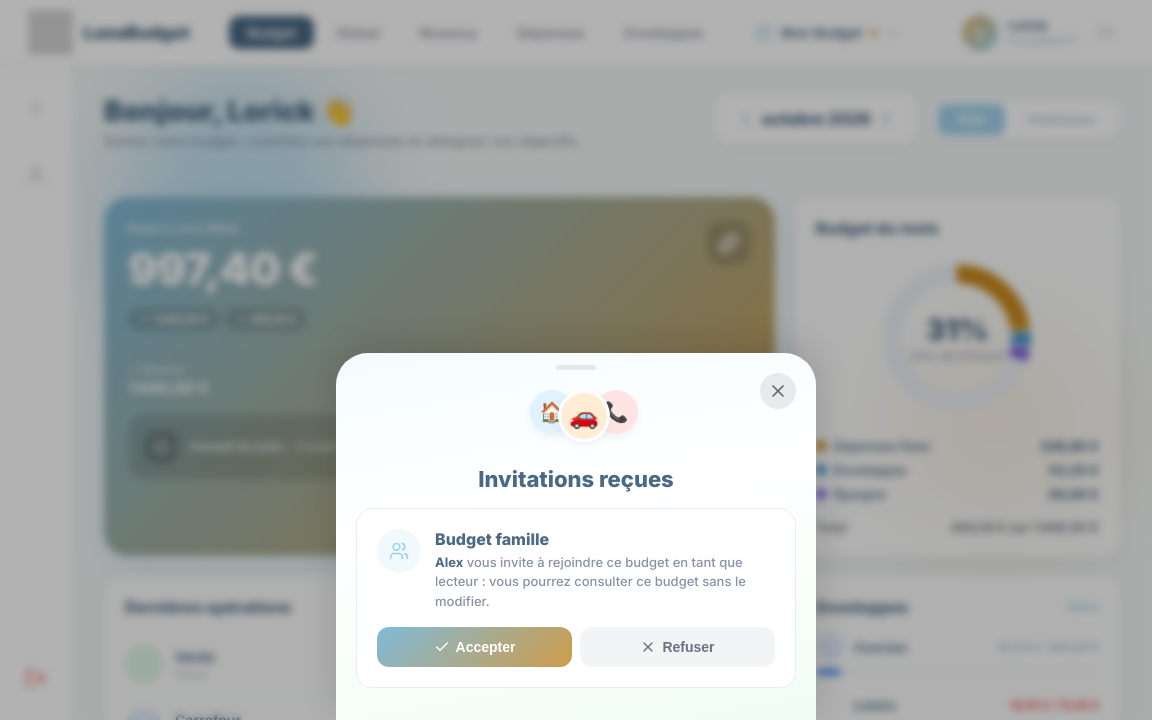
invitations reçues › accepter rejoint le budget
Click the button "Accepter": (474, 647) [377,627,572,667]
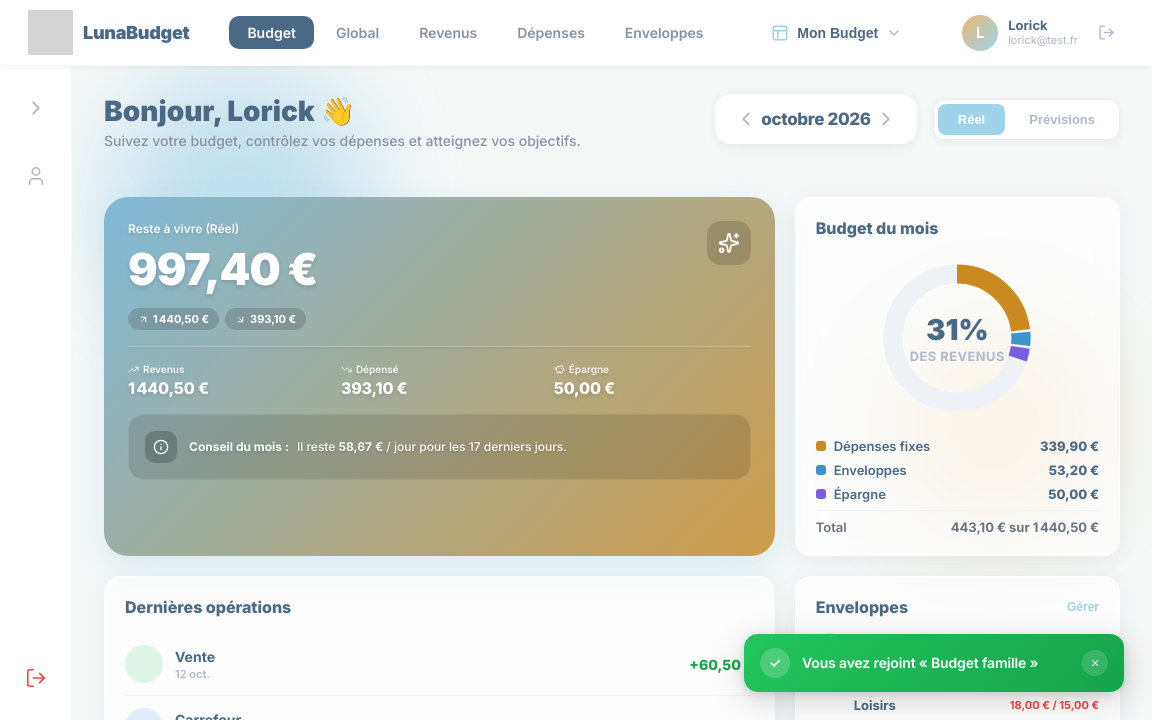
Expected: the text "Vous avez rejoint « Budget famille »" is shown, [802,654,1070,672]
Expected: the text "Invitations reçues" is gone
